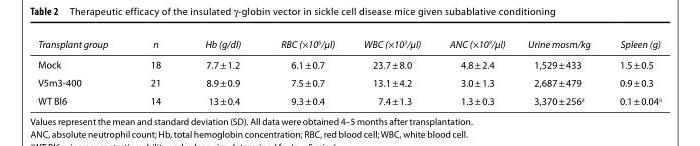table: (37, 37, 660, 106)
table column: (37, 37, 128, 106), (515, 37, 604, 106), (260, 37, 348, 106), (348, 37, 434, 106), (434, 37, 515, 106), (182, 37, 260, 106), (604, 37, 660, 106), (128, 37, 182, 106)
table column header: (37, 37, 660, 53)
table row: (37, 53, 660, 73), (37, 73, 660, 91), (37, 37, 660, 53), (37, 91, 660, 106)
